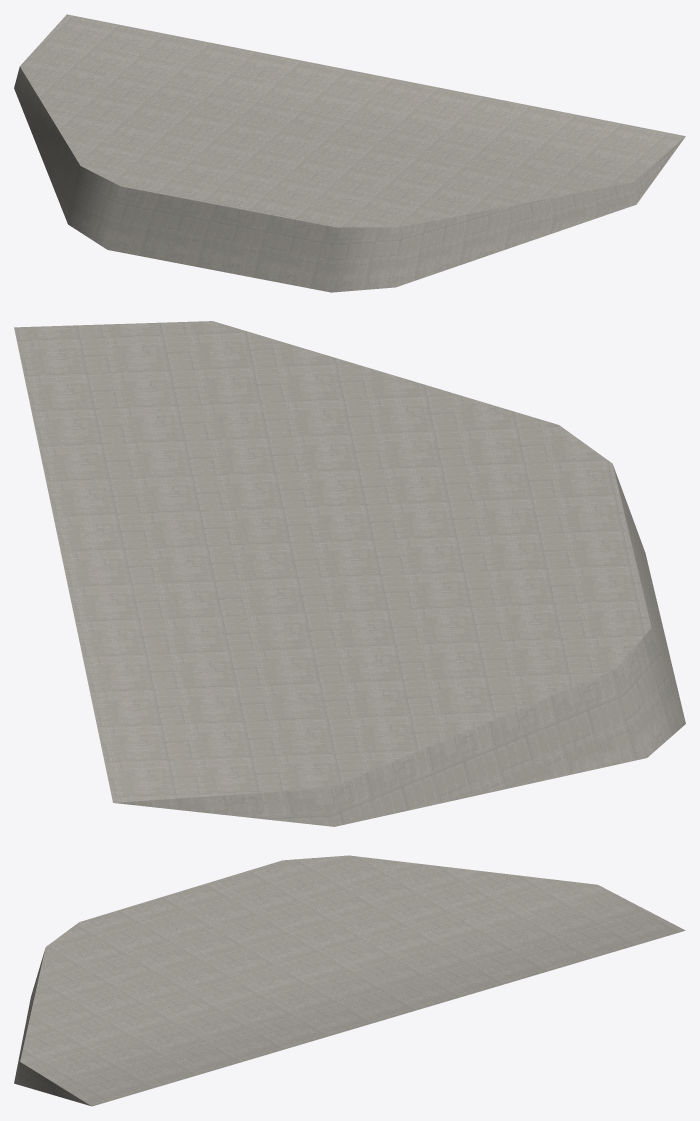
Rendered from kd_stage_1366d7_21_11_bounded.glb.
3 views of the same model, one above another, from view 1: azimuth 30°, elevation 25°; view 2: azimuth 150°, elevation 25°; view 3: azimuth 270°, elevation 25° (orthographic). The views are drawn at different scales.
Visible parts, largest first — view 1: kd_stage_1366d7_21_11_bounded; view 2: kd_stage_1366d7_21_11_bounded; view 3: kd_stage_1366d7_21_11_bounded.
Part boxes in pixels (x1,y1,x2,y2): kd_stage_1366d7_21_11_bounded: [14, 14, 685, 292]; kd_stage_1366d7_21_11_bounded: [14, 321, 685, 826]; kd_stage_1366d7_21_11_bounded: [14, 855, 685, 1106].
Bounding box in the file's own units: 33.26 × 3.59 × 36.42.
Materials: 1 (1 with a texture image).
